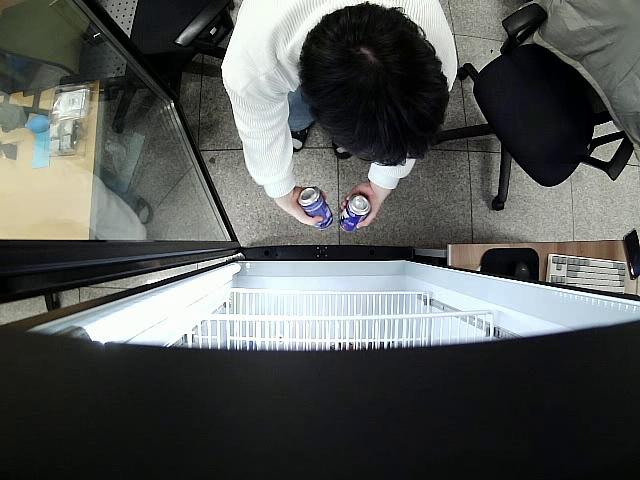00_hand: (339, 184, 381, 229), (281, 187, 327, 225)
14_welchsGrape: (296, 187, 333, 230), (339, 191, 371, 233)
